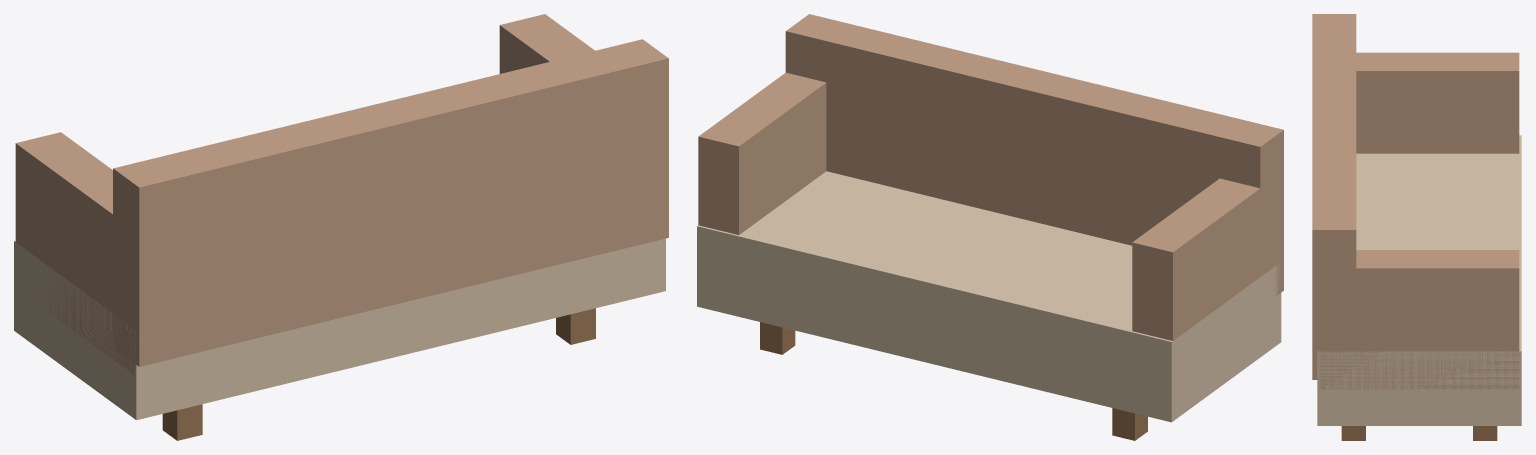
The model's file is sofa.glb.
The picture shows the model from 3 angles, left to right: view 1: azimuth 30°, elevation 25°; view 2: azimuth 150°, elevation 25°; view 3: azimuth 270°, elevation 25°; orthographic projection. The views are drawn at different scales.
Parts seen in each view (by area): view 1: back, seat, left-arm, right-arm, leg-3, leg-4; view 2: seat, back, left-arm, right-arm, leg-1, leg-2; view 3: seat, right-arm, left-arm, back, leg-2, leg-4.
Part boxes in pixels (<box>): back: <box>113,39,668,366</box>; seat: <box>14,238,665,420</box>; left-arm: <box>15,132,134,374</box>; right-arm: <box>499,14,594,73</box>; leg-3: <box>162,404,202,440</box>; leg-4: <box>556,308,595,344</box>; seat: <box>697,171,1281,422</box>; back: <box>785,14,1283,295</box>; left-arm: <box>1132,178,1264,340</box>; right-arm: <box>698,72,826,234</box>; leg-1: <box>1112,408,1147,440</box>; leg-2: <box>760,322,795,354</box>; seat: <box>1317,135,1521,425</box>; right-arm: <box>1319,250,1519,389</box>; left-arm: <box>1356,52,1519,153</box>; back: <box>1312,14,1356,379</box>; leg-2: <box>1473,426,1497,440</box>; leg-4: <box>1341,426,1365,440</box>.
Bounding box in the file's own units: 2.1 × 1.06 × 0.86.
